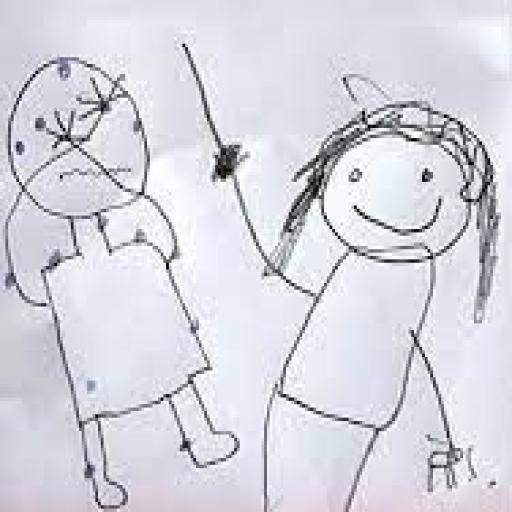person: (246, 60, 502, 509), (4, 55, 240, 509)
